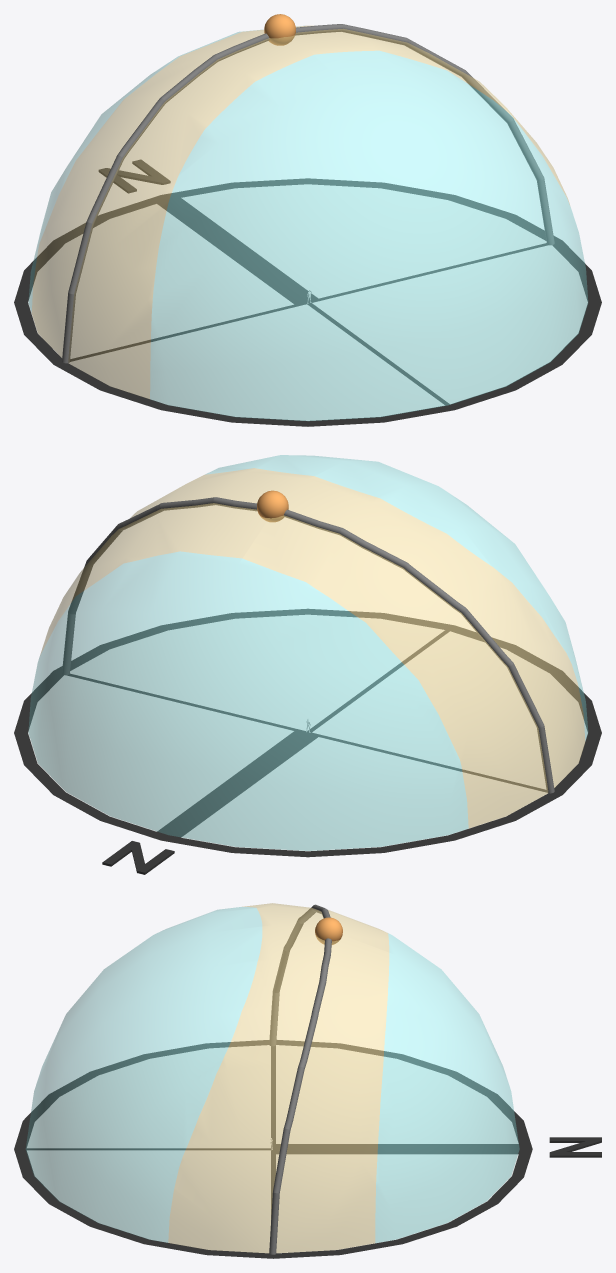
Rendered from solequinocio.glb.
3 renders of one model, top to bottom at view 1: azimuth 30°, elevation 25°; view 2: azimuth 150°, elevation 25°; view 3: azimuth 270°, elevation 25°, orthographic. The views are drawn at different scales.
Visible parts, largest first — view 1: object 5, root, N, object 2; view 2: object 5, root, N, object 2; view 3: object 5, root, N, object 2.
Part boxes in pixels (bbox=[...]): object 5: bbox=[28, 25, 588, 421]; root: bbox=[14, 24, 601, 426]; N: bbox=[98, 159, 170, 193]; object 2: bbox=[264, 14, 295, 45]; object 5: bbox=[28, 455, 588, 850]; root: bbox=[14, 497, 601, 857]; N: bbox=[102, 841, 174, 874]; object 2: bbox=[257, 490, 288, 522]; object 5: bbox=[25, 903, 519, 1253]; root: bbox=[14, 904, 532, 1258]; N: bbox=[549, 1137, 601, 1157]; object 2: bbox=[315, 917, 342, 944].
Size of the model in its own units: 1.47 by 0.7271 by 1.67.
